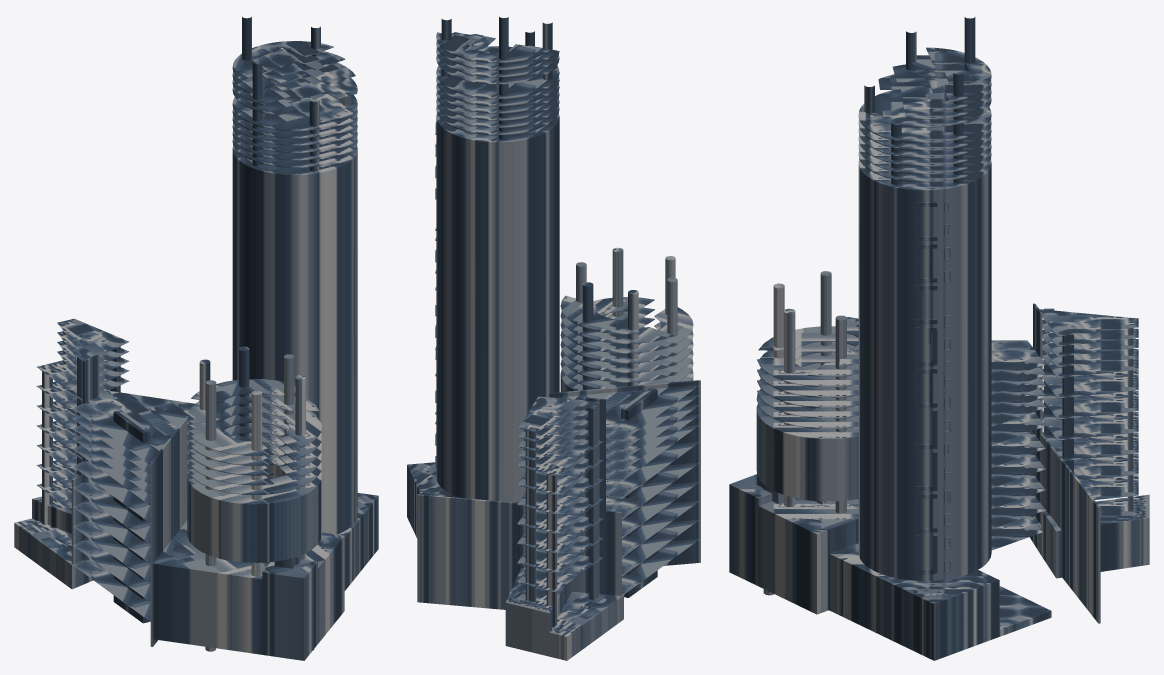
The model's file is Landmarks_ct_residental_development_zone_g_area03.glb.
3 views of the same model, side by side, from view 1: azimuth 30°, elevation 25°; view 2: azimuth 150°, elevation 25°; view 3: azimuth 270°, elevation 25° (orthographic). The views are drawn at different scales.
Visible parts, largest first — view 1: world; view 2: world; view 3: world.
Part boxes in pixels (x1,y1,x2,y2): world: (14,17,378,660); world: (407,17,700,660); world: (729,17,1149,660).
Bounding box in the file's own units: 14444 × 29155 × 18724.
1 material, 1 textured.
